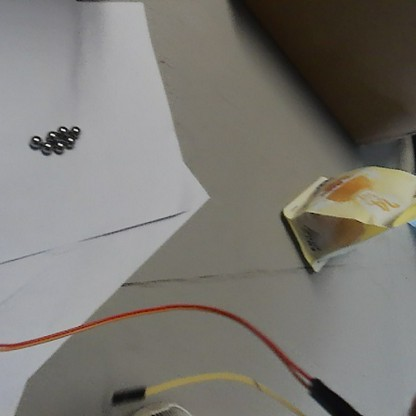ironball: (29, 134, 41, 146), (41, 142, 52, 153), (54, 141, 64, 153), (64, 134, 73, 146), (58, 125, 68, 133), (47, 131, 57, 138), (70, 125, 78, 133)
